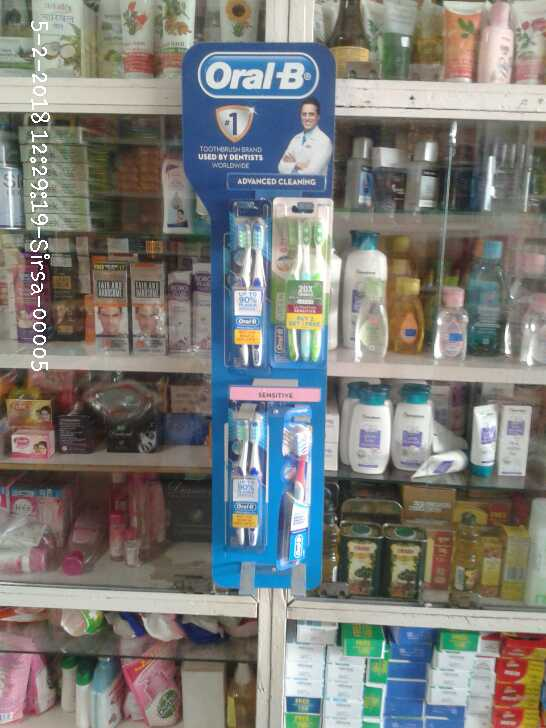oralb: (275, 204, 326, 358), (226, 215, 268, 362), (223, 418, 264, 568), (282, 411, 316, 561)
